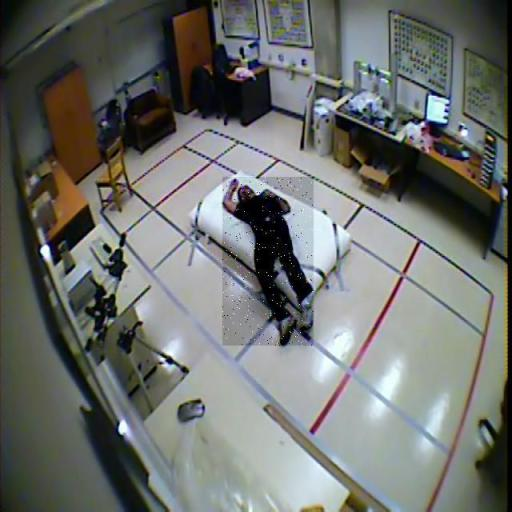Fall: (223, 177, 314, 346)
